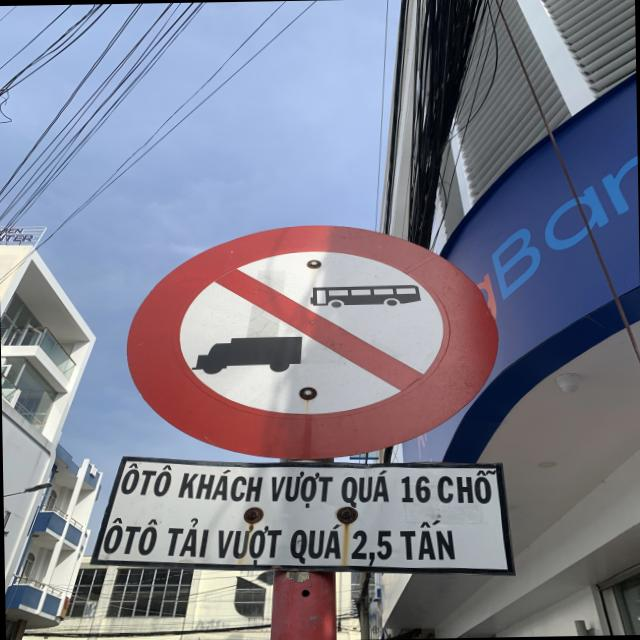Cam_XeTai_XeKhach: (126, 223, 498, 459)
